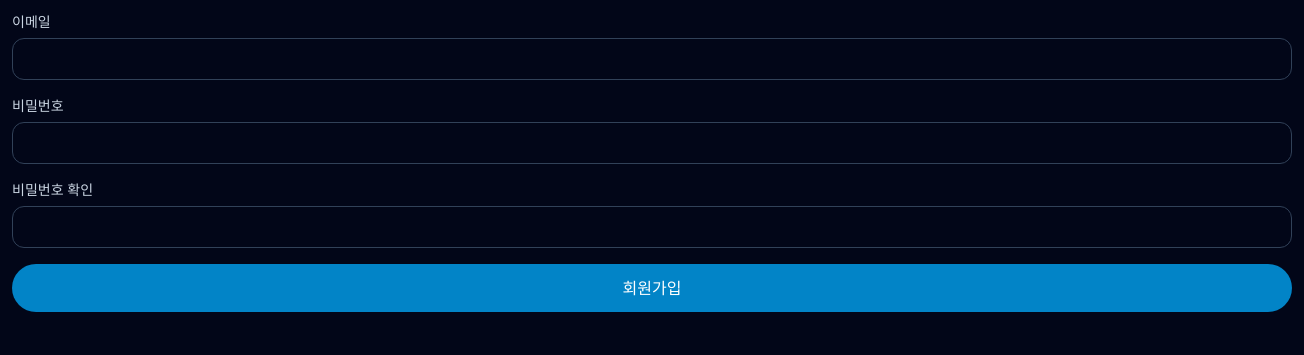
Test case: SignupForm › shows an inline error when the email is already taken, checked on blur
The image size is (1304, 355).
Step 1. Type "taken@example.com" into the field labelled "이메일" → (652, 59), box [12, 38, 1292, 80]
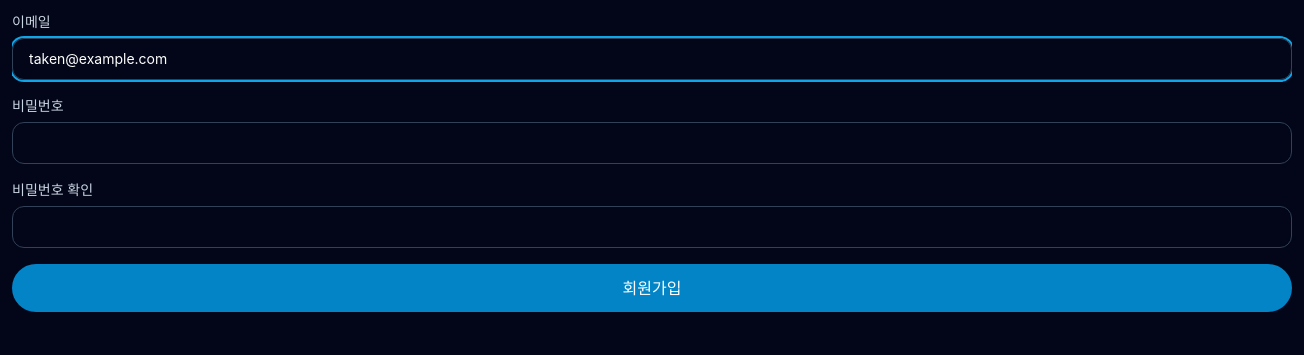
Step 2. Press Tab
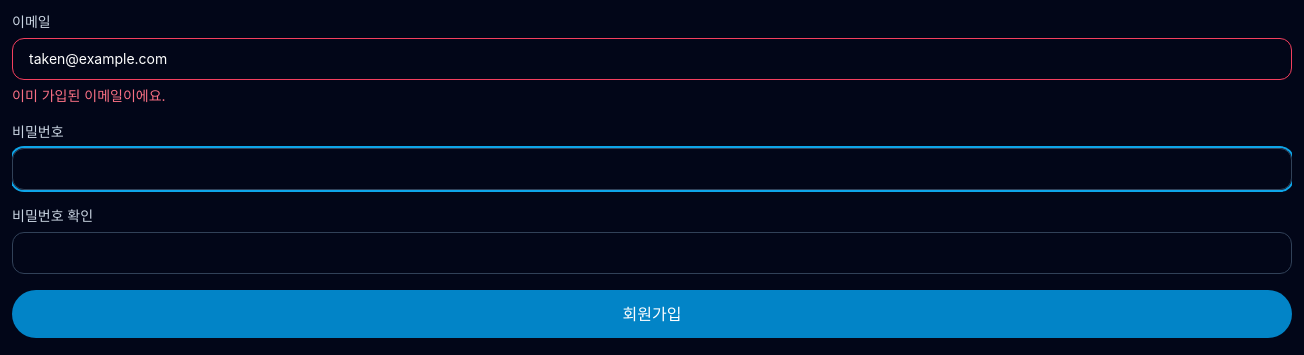
expect the text "이미 가입된 이메일이에요." is shown: met, box [12, 87, 166, 104]
